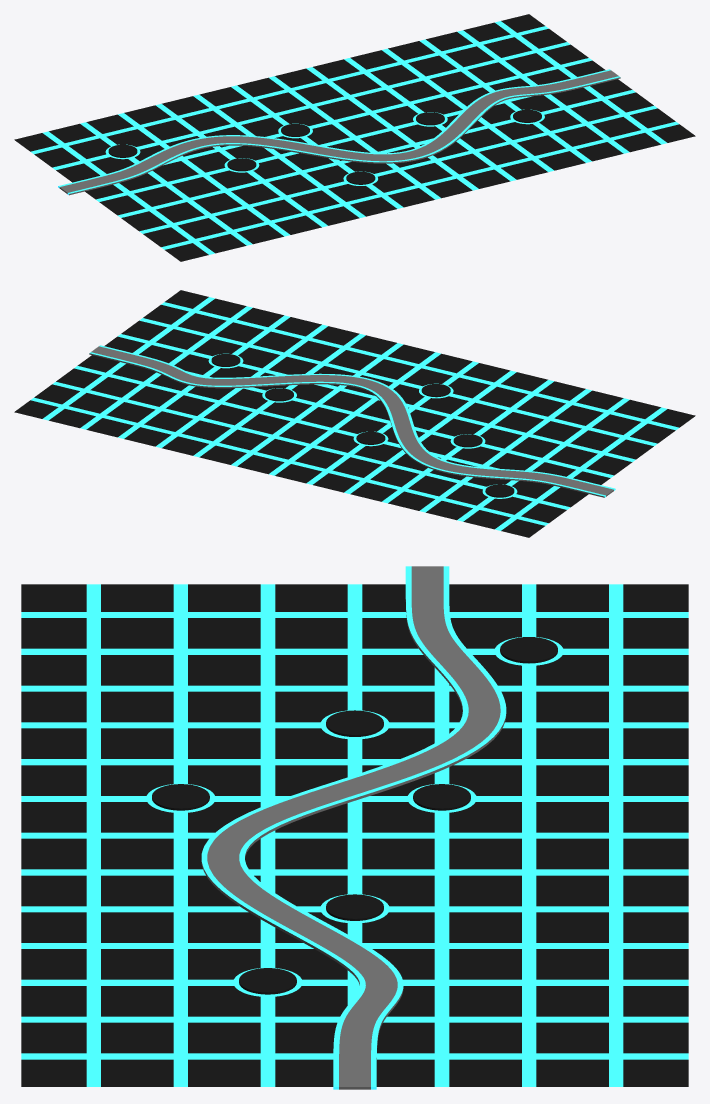
File: level1.fbx
3 renders of one model, top to bottom at view 1: azimuth 30°, elevation 25°; view 2: azimuth 150°, elevation 25°; view 3: azimuth 270°, elevation 25°, orthographic. The views are drawn at different scales.
Visible parts, largest first — view 1: Field, Plane.001; view 2: Field, Plane.001; view 3: Field, Plane.001, Cylinder.004, Cylinder.005, Cylinder.001, Cylinder.002, Cylinder.003, Cylinder.
Part boxes in pixels (box(x1,y1,x2,y2)): Field: box(14, 14, 695, 261); Plane.001: box(58, 69, 620, 195); Field: box(14, 290, 695, 537); Plane.001: box(89, 345, 615, 497); Field: box(21, 584, 688, 1086); Plane.001: box(201, 566, 506, 1089); Cylinder.004: box(326, 710, 383, 736); Cylinder.005: box(413, 784, 470, 810); Cylinder.001: box(152, 784, 209, 810); Cylinder.002: box(326, 894, 383, 920); Cylinder.003: box(500, 637, 557, 663); Cylinder: box(239, 968, 296, 994).
Bounding box in the file's own units: 4245 × 20 × 2300.
